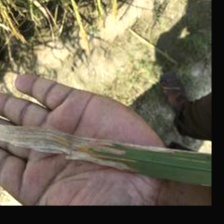Leaf_Blast: (0, 131, 146, 154)
